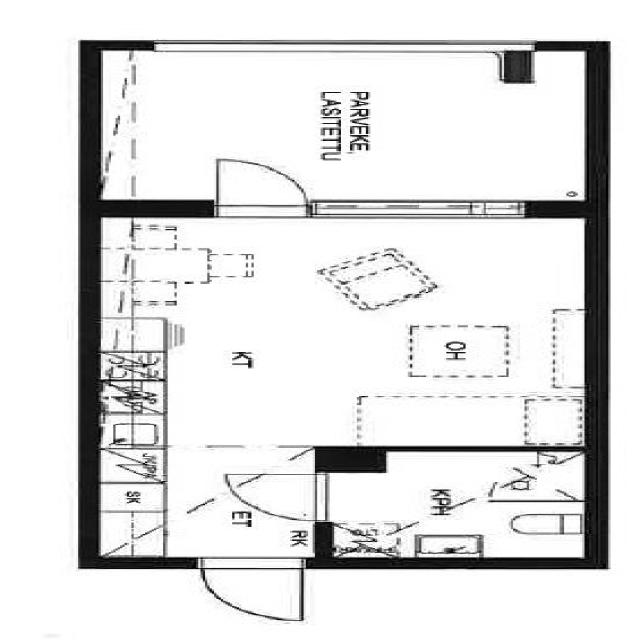door: (189, 556, 313, 626), (197, 153, 324, 220), (220, 464, 340, 528)
window: (306, 191, 548, 226)
zone: (90, 213, 610, 454), (104, 46, 588, 207), (323, 448, 598, 562)
